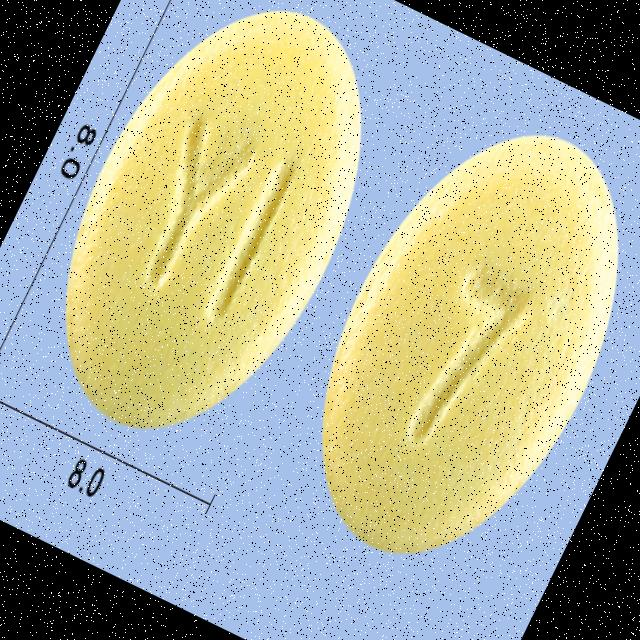Levopa: (3, 0, 422, 476), (261, 85, 640, 599)
